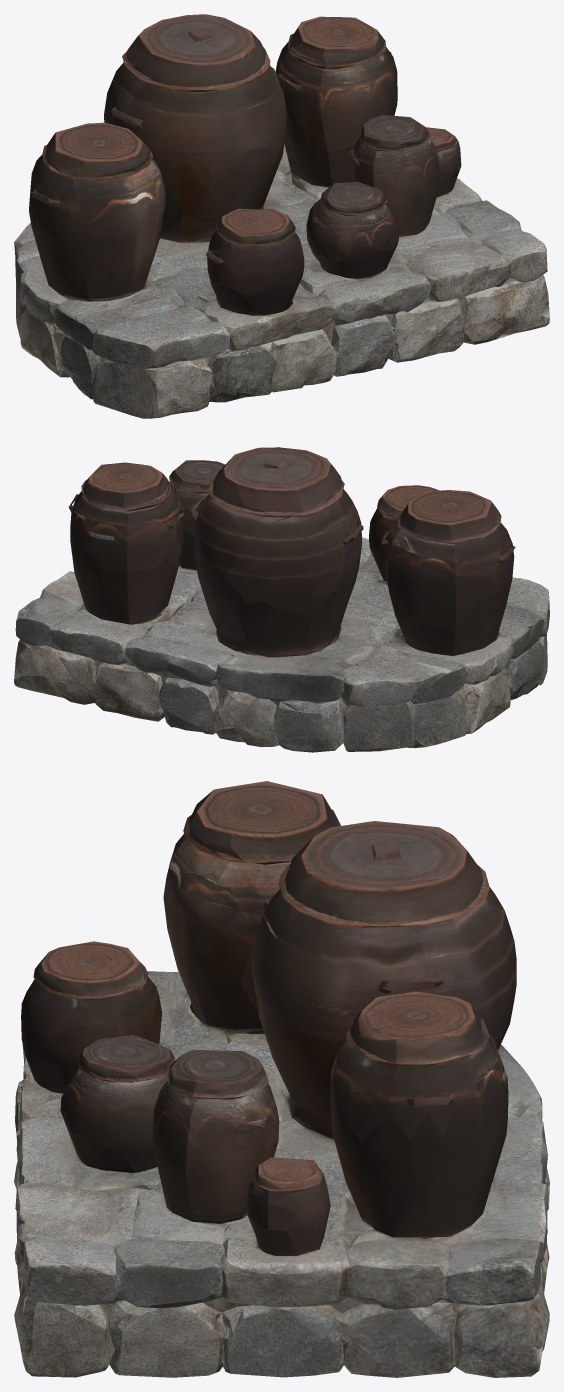
Rendered from jangdok.glb.
3 renders of one model, top to bottom at view 1: azimuth 30°, elevation 25°; view 2: azimuth 150°, elevation 25°; view 3: azimuth 270°, elevation 25°, orthographic. The views are drawn at different scales.
Bounding box in the file's own units: 1.89 × 1.07 × 1.4.
1 material, 1 textured.
